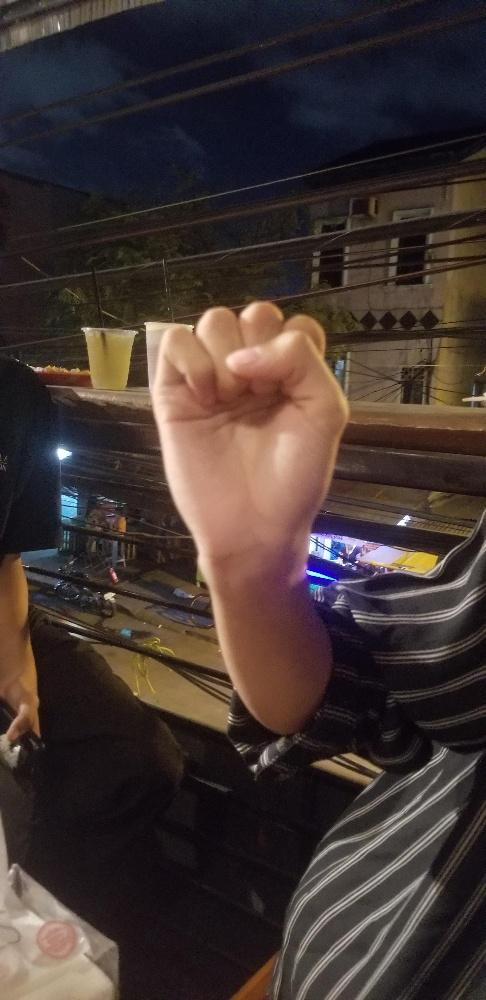s: (147, 299, 351, 522)
